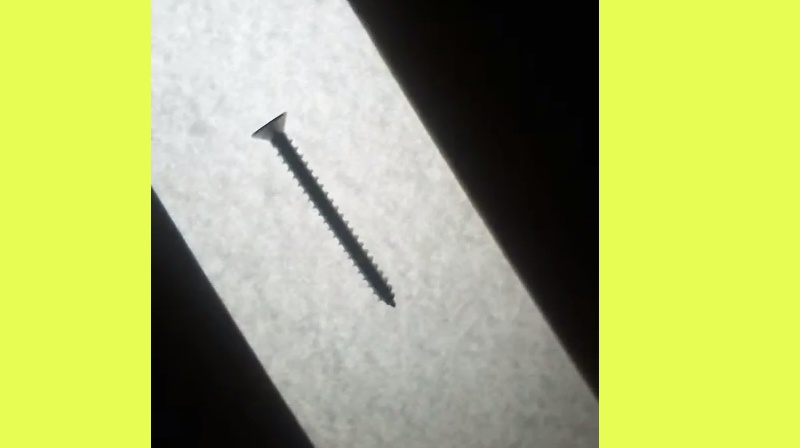S002: (247, 107, 396, 310)
